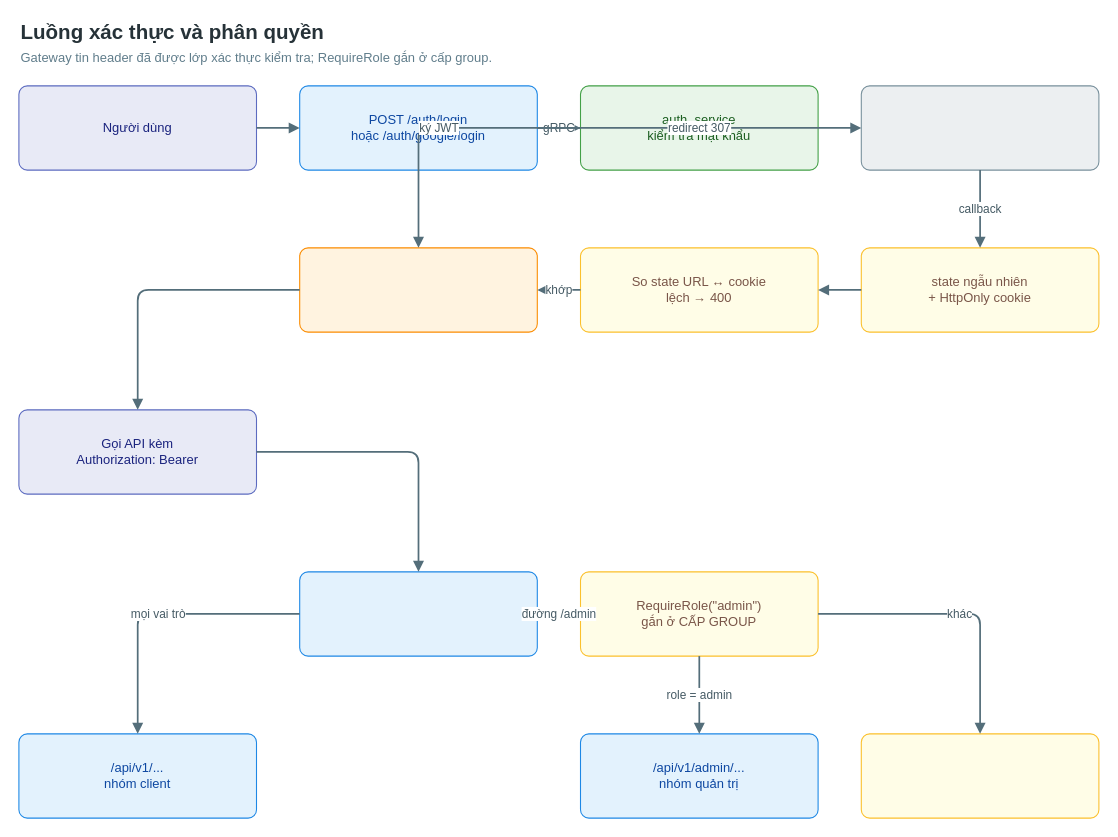
Some shapes in this 1118 by 837 pixel diagram are drawn without their labels. The box of each missing label's shape, as (x1, y1, x2, y2) in pixels:
403 PERMISSION_DENIED: (860, 733, 1099, 818)
Google OAuth2 consent screen: (860, 85, 1099, 170)
IdentityContext đọc X-User-Id / X-User-Role: (299, 571, 537, 656)
TokenPair access + refresh: (299, 247, 537, 332)
